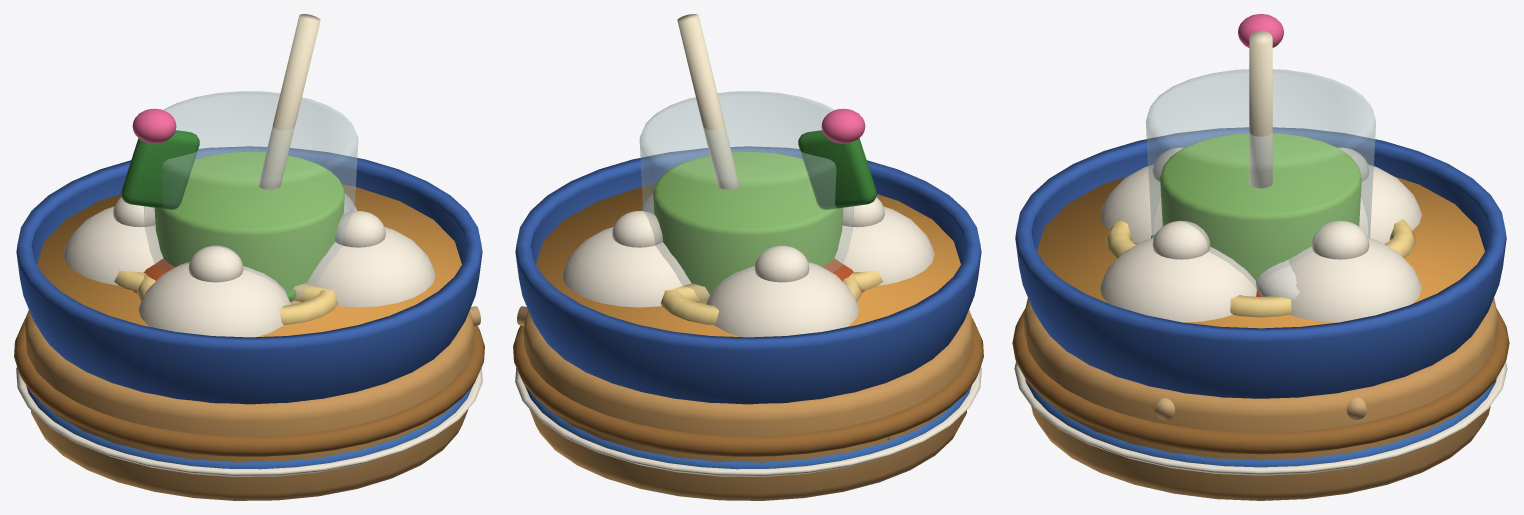
Rendered from dishes.glb.
3 views of the same model, side by side, from view 1: azimuth 30°, elevation 25°; view 2: azimuth 150°, elevation 25°; view 3: azimuth 270°, elevation 25° (orthographic). The views are drawn at different scales.
Parts seen in each view (by area): view 1: dish_dumplings, dish_noodles, dish_cactusjuice, dish_duck; view 2: dish_dumplings, dish_noodles, dish_cactusjuice, dish_duck; view 3: dish_dumplings, dish_noodles, dish_cactusjuice, dish_duck, dish_skewers.
Part boxes in pixels (bbox=[...]): dish_dumplings: bbox=[14, 193, 484, 500]; dish_noodles: bbox=[16, 146, 482, 404]; dish_cactusjuice: bbox=[121, 14, 358, 303]; dish_duck: bbox=[16, 258, 482, 476]; dish_dumplings: bbox=[513, 193, 983, 500]; dish_noodles: bbox=[515, 146, 981, 404]; dish_cactusjuice: bbox=[639, 14, 876, 303]; dish_duck: bbox=[515, 258, 981, 476]; dish_dumplings: bbox=[1012, 147, 1509, 500]; dish_noodles: bbox=[1015, 127, 1506, 398]; dish_cactusjuice: bbox=[1145, 14, 1376, 290]; dish_duck: bbox=[1014, 281, 1507, 475]; dish_skewers: bbox=[1154, 398, 1367, 419].
Size of the model in its own units: 0.344 by 0.3087 by 0.344.
